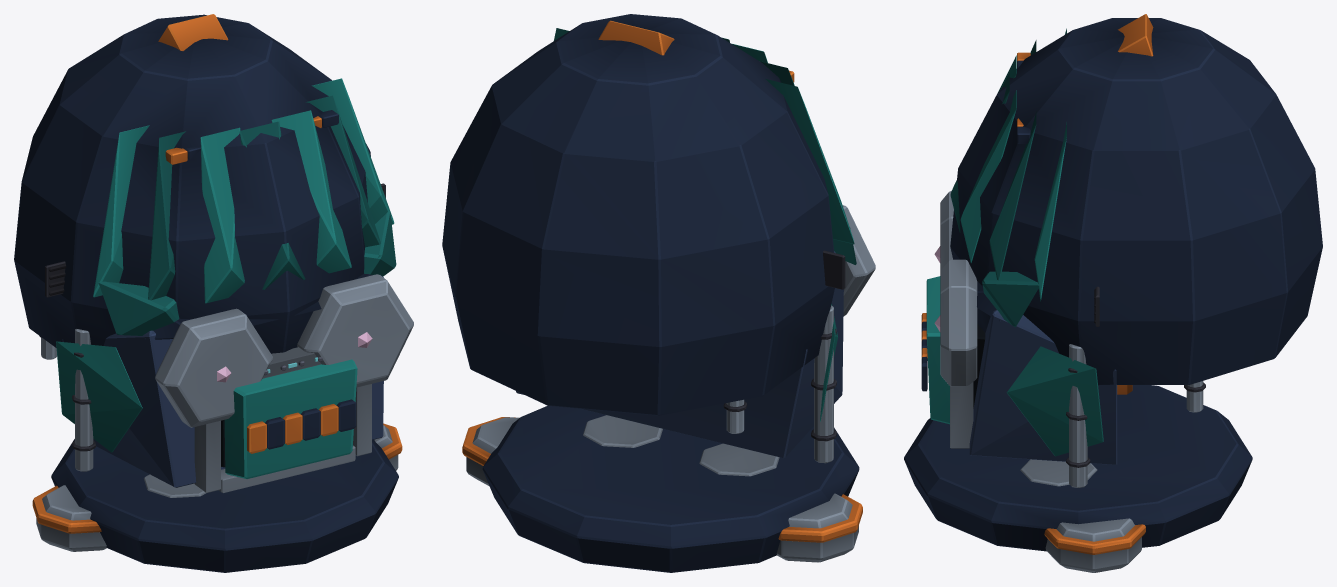
File: kraken.glb
3 views of the same model, side by side, from view 1: azimuth 30°, elevation 25°; view 2: azimuth 150°, elevation 25°; view 3: azimuth 270°, elevation 25° (orthographic). The views are drawn at different scales.
Visible parts, largest first — view 1: kraken_hull_body, kraken_plates_body; view 2: kraken_hull_body, kraken_plates_body; view 3: kraken_hull_body, kraken_plates_body.
Part boxes in pixels (x1,y1,x2,y2): kraken_hull_body: (14,14,413,572); kraken_plates_body: (56,211,396,478); kraken_hull_body: (442,14,875,572); kraken_plates_body: (820,227,856,421); kraken_hull_body: (904,14,1322,572); kraken_plates_body: (921,271,1103,456).
Bounding box in the file's own units: 21.34 × 27.16 × 21.54.
